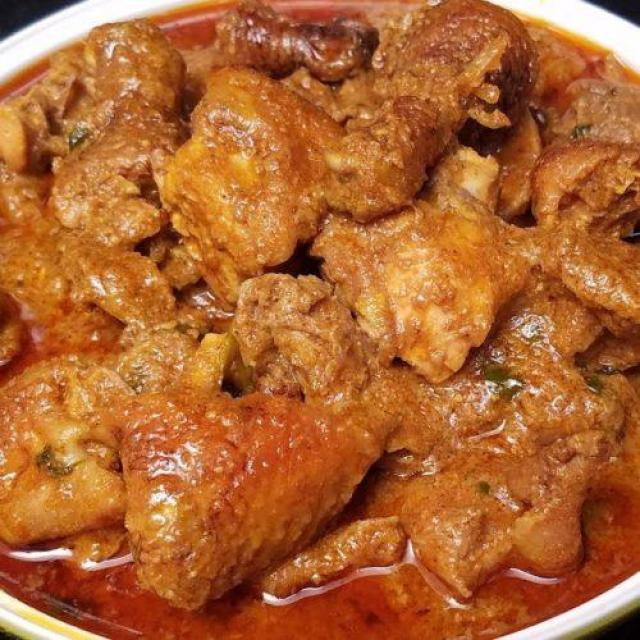chicken: (11, 24, 614, 630)
